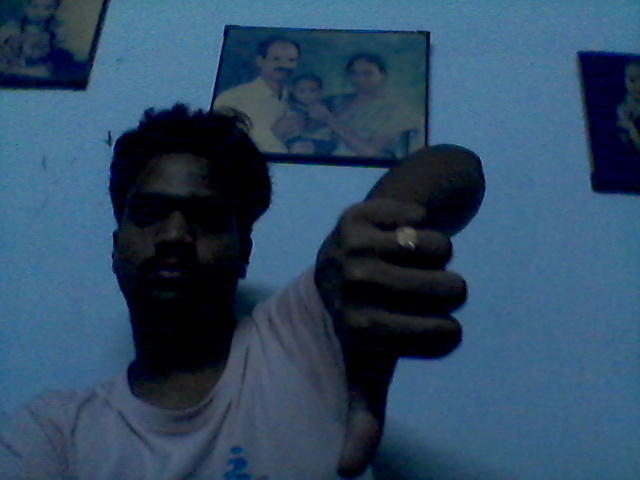Please: (325, 195, 475, 480)
